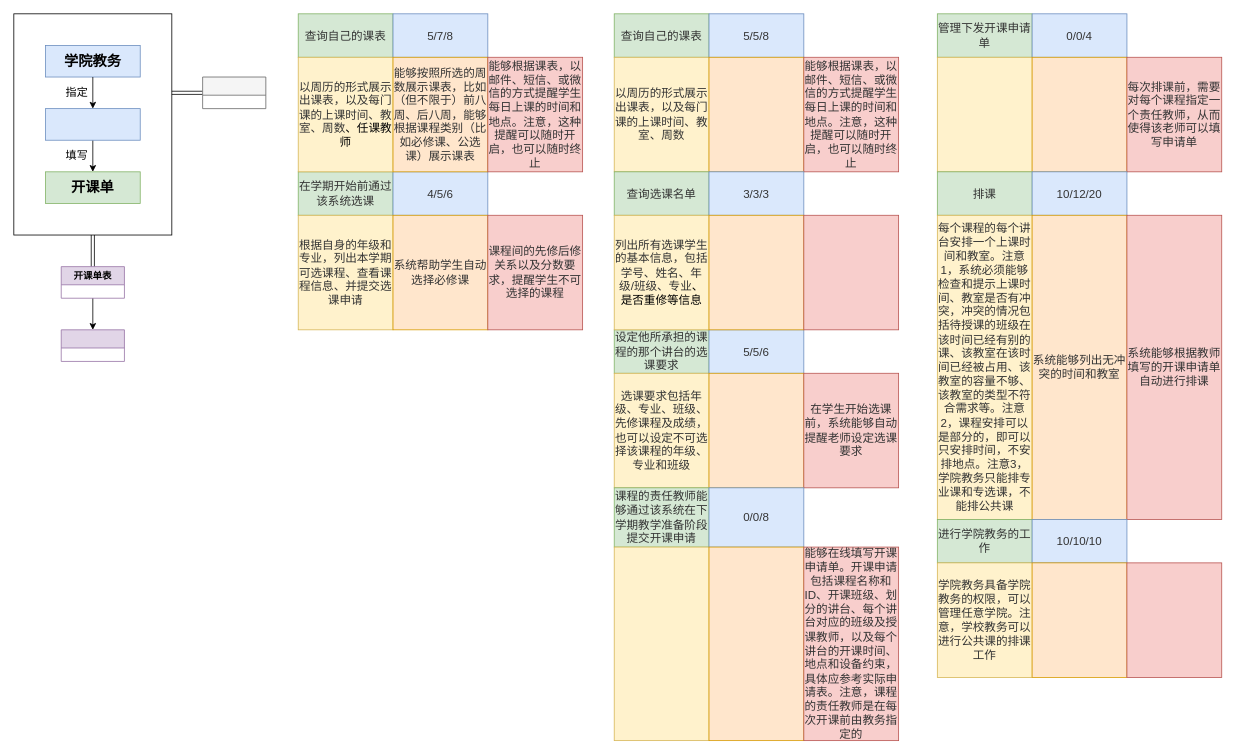
This 1236x754 diagram has some shape labels left out. Each missing label, with the centre of its shape:
"老师" goes at point 92,124.
"计划讲台表" goes at point 92,345.
"课程表" goes at point 234,92.
